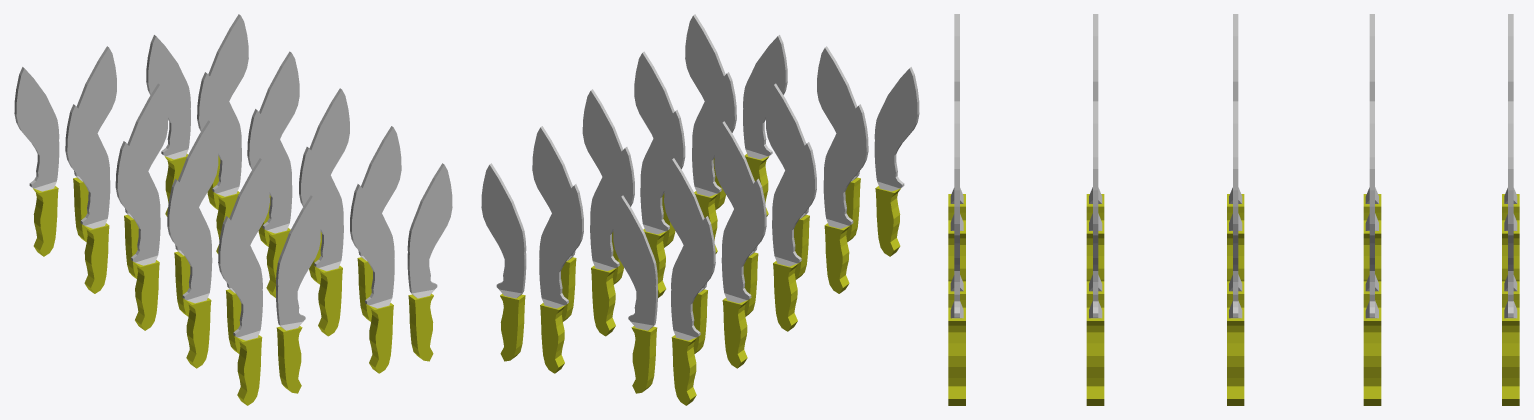
The model's file is knife.fbx.
3 renders of one model, left to right at view 1: azimuth 30°, elevation 25°; view 2: azimuth 150°, elevation 25°; view 3: azimuth 270°, elevation 25°, orthographic. The views are drawn at different scales.
Parts seen in each view (by area): view 1: knife; view 2: knife; view 3: knife.
Boxes of the visible parts, x1=… form: knife: x1=14, y1=14, x2=452, y2=405; knife: x1=481, y1=14, x2=919, y2=405; knife: x1=948, y1=14, x2=1519, y2=405.
Size of the model in its own units: 105 by 82.87 by 165.
